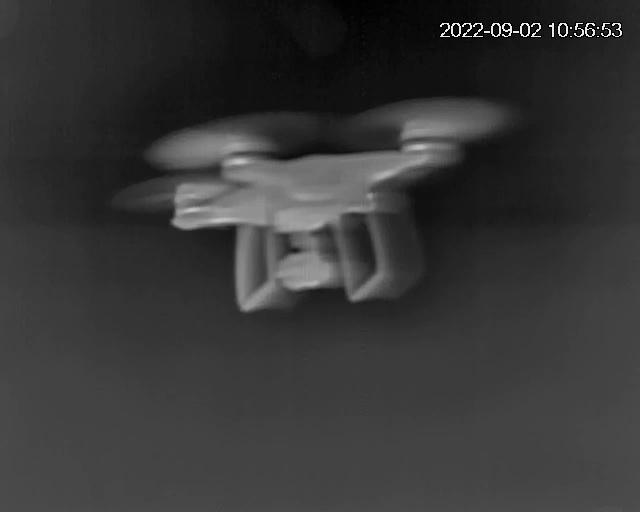DJI-Phantom: (170, 132, 452, 306)
